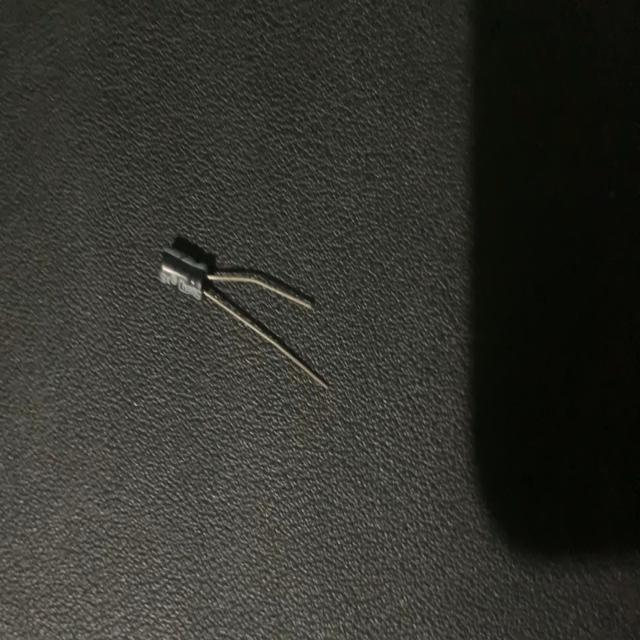capacitor: (158, 236, 330, 393)
